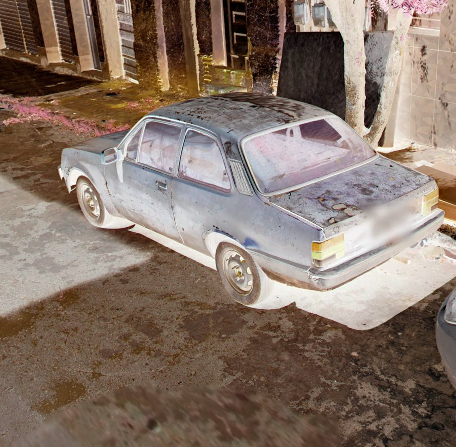car: (52, 85, 447, 312)
